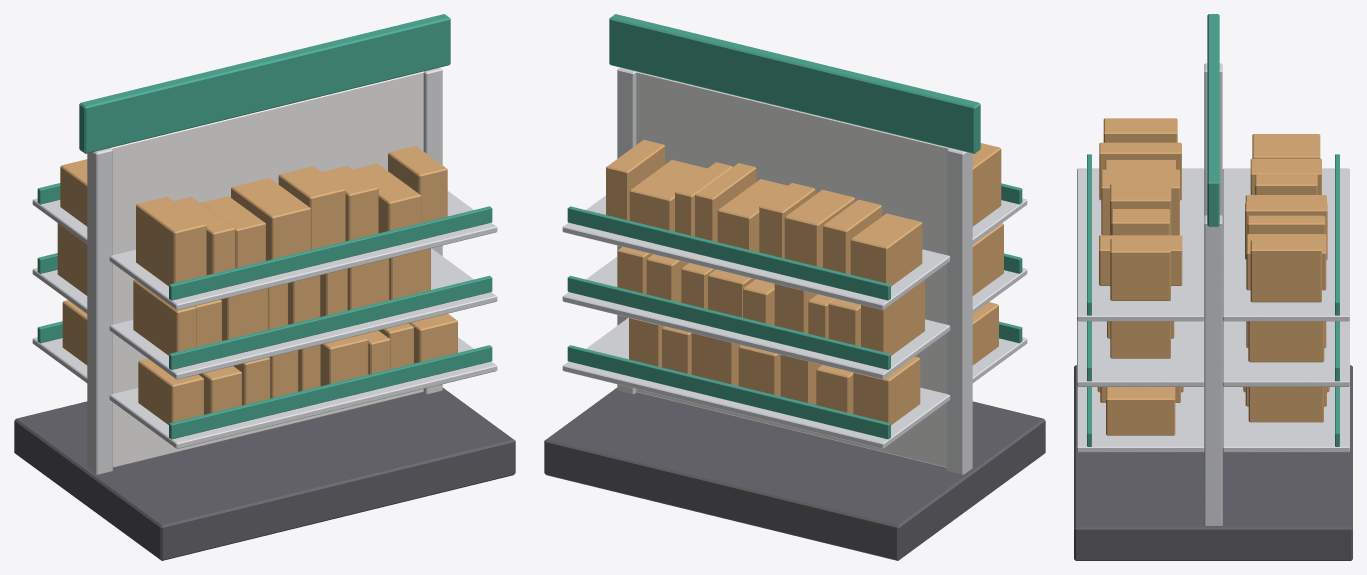
The model's file is petrol-station-and-forecourt-shop-snack-gondola-1200-59981ceb__33969.glb.
The picture shows the model from 3 angles, left to right: view 1: azimuth 30°, elevation 25°; view 2: azimuth 150°, elevation 25°; view 3: azimuth 270°, elevation 25°; orthographic projection. The views are drawn at different scales.
Visible parts, largest first — view 1: snack-gondola-1200; view 2: snack-gondola-1200; view 3: snack-gondola-1200.
Part boxes in pixels (box(x1,y1,x2,y2)): snack-gondola-1200: box(14, 14, 515, 560); snack-gondola-1200: box(544, 14, 1045, 560); snack-gondola-1200: box(1074, 14, 1352, 560).
Size of the model in its own units: 1.29 by 1.36 by 0.9001.
